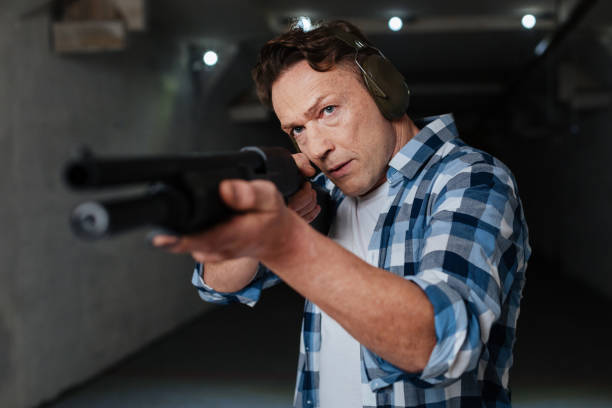gun: (60, 144, 339, 240)
